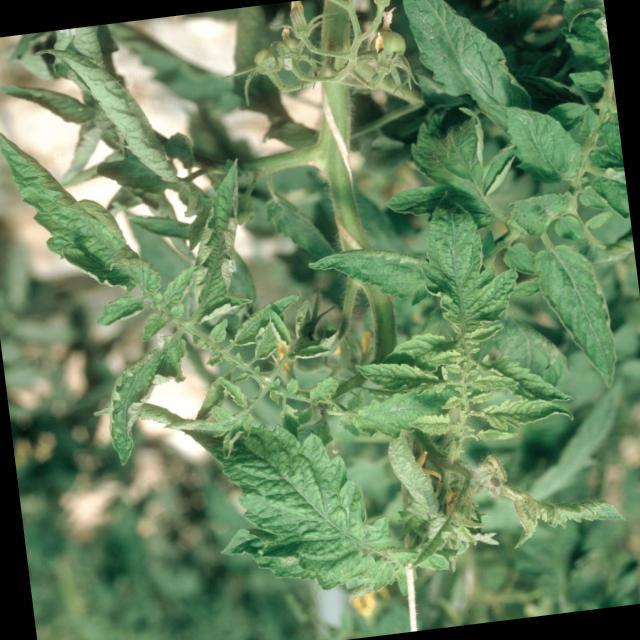Tomato yellow virus leaf: (132, 374, 400, 614), (0, 100, 162, 313), (409, 189, 526, 350), (527, 236, 625, 404), (94, 330, 201, 474), (171, 153, 260, 326), (305, 238, 436, 319), (504, 478, 630, 552), (348, 379, 466, 447), (482, 388, 578, 438), (352, 353, 441, 401), (406, 408, 454, 441), (468, 372, 520, 398), (426, 346, 466, 369)
